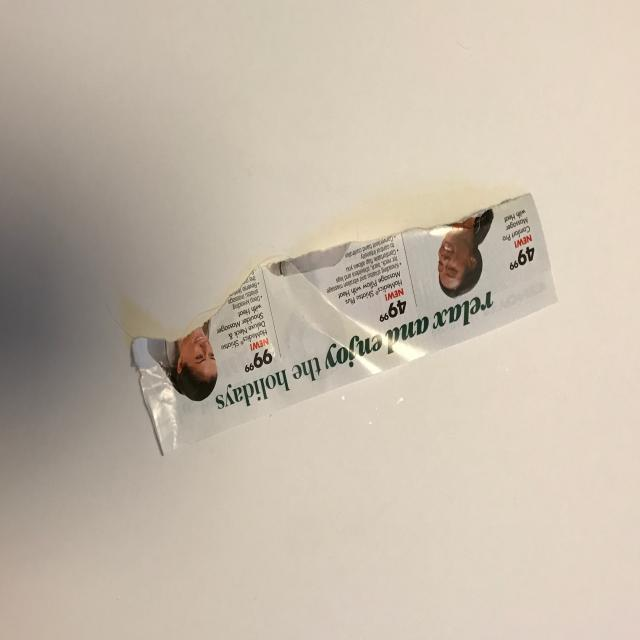paper: (130, 192, 560, 454)
